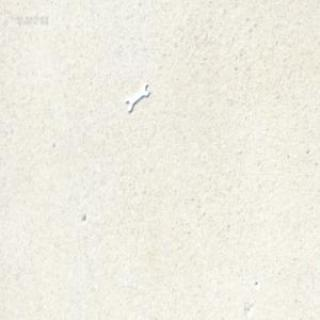Wrenchtrack_idkeyframe: (125, 81, 148, 111)
